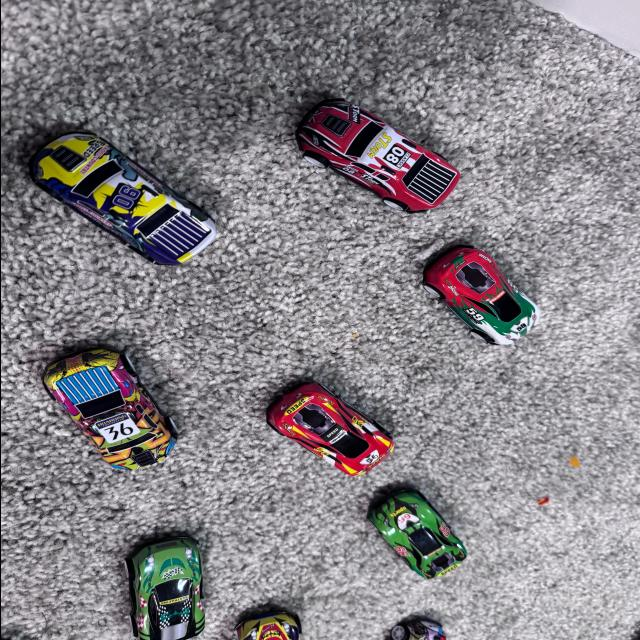Car: (7, 94, 233, 264), (15, 339, 189, 492), (300, 79, 468, 215), (109, 512, 238, 640), (356, 464, 490, 574), (254, 382, 387, 479), (423, 235, 557, 331)
